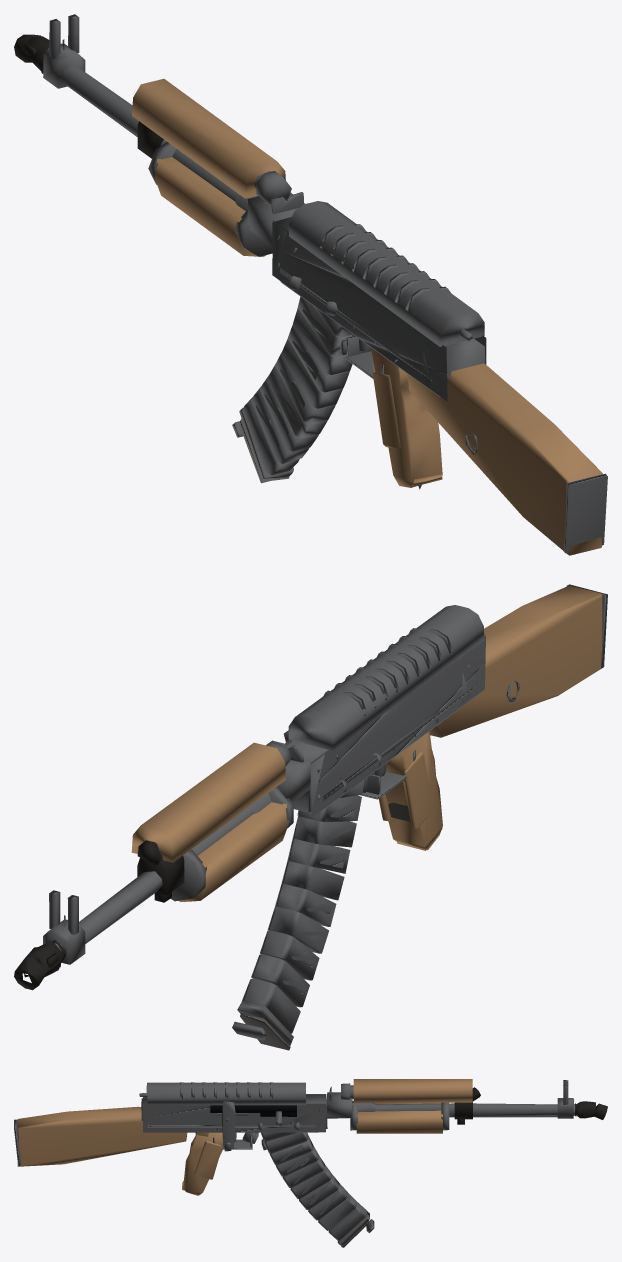
3 renders of one model, top to bottom at view 1: azimuth 30°, elevation 25°; view 2: azimuth 150°, elevation 25°; view 3: azimuth 270°, elevation 25°, orthographic. The views are drawn at different scales.
Visible parts, largest first — view 1: ak47-low; view 2: ak47-low; view 3: ak47-low.
Part boxes in pixels (x1,y1,x2,y2): ak47-low: [14, 14, 607, 555]; ak47-low: [14, 584, 607, 1050]; ak47-low: [14, 1079, 607, 1247].
Bounding box in the file's own units: 0.0722 × 0.2709 × 0.8989.
